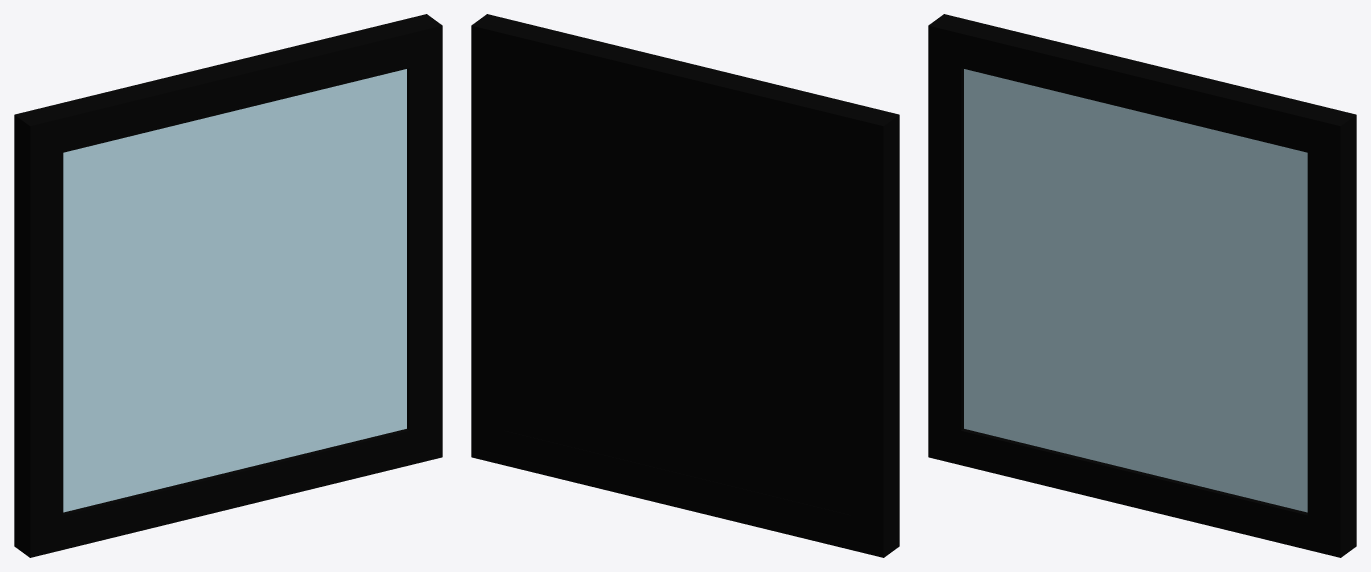
Rendered from Mirror.fbx.
3 views of the same model, side by side, from view 1: azimuth 30°, elevation 25°; view 2: azimuth 150°, elevation 25°; view 3: azimuth 330°, elevation 25° (orthographic).
Visible parts, largest first — view 1: mirror_pane, frame_top, frame_left, frame_bottom, frame_right; view 2: backing_panel, frame_top, frame_left, frame_bottom, frame_right; view 3: mirror_pane, frame_top, frame_right, frame_bottom, frame_left.
Part boxes in pixels (x1,y1,x2,y2): mirror_pane: [63, 69, 406, 512]; frame_top: [14, 14, 442, 160]; frame_left: [14, 149, 63, 523]; frame_bottom: [14, 423, 442, 557]; frame_right: [407, 60, 442, 430]; backing_panel: [504, 68, 850, 514]; frame_top: [471, 14, 899, 160]; frame_left: [850, 149, 899, 523]; frame_bottom: [471, 423, 899, 557]; frame_right: [471, 60, 504, 430]; mirror_pane: [964, 69, 1307, 512]; frame_top: [928, 14, 1356, 160]; frame_right: [1307, 149, 1356, 523]; frame_bottom: [928, 423, 1356, 557]; frame_left: [928, 60, 963, 430].
Bounding box in the file's own units: 150 × 150 × 10.
